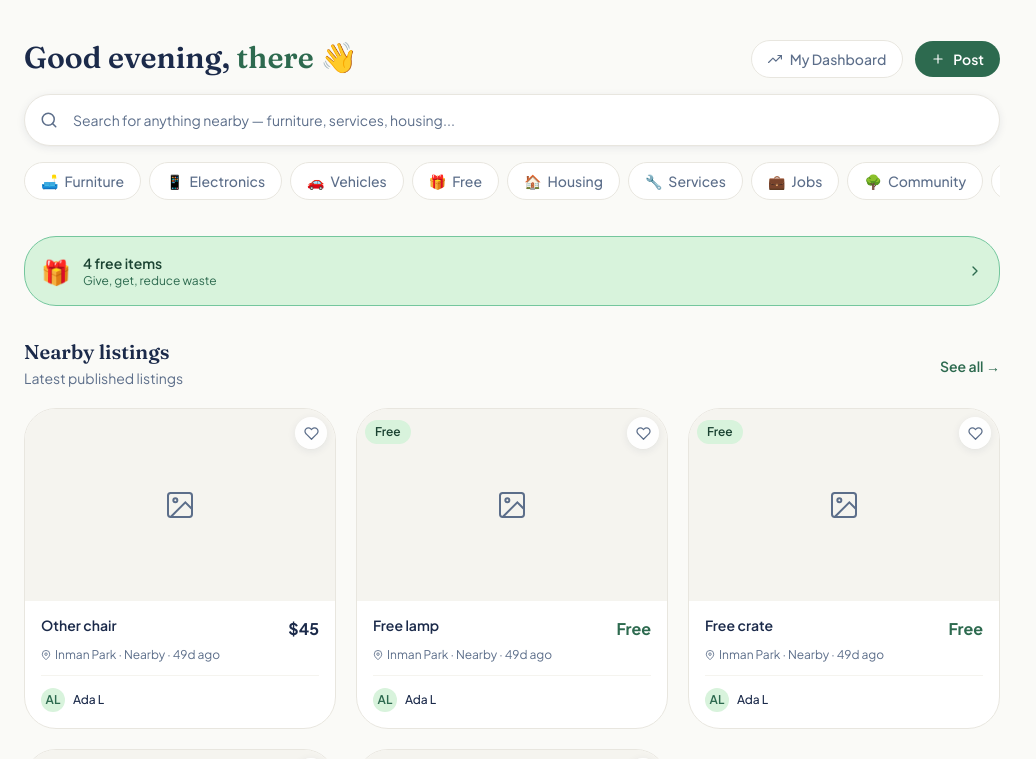
Test case: HomeFeed neighbour group › filters a category chip on the server and counts every free item
Expected: the text "4 free items" is shown, x1=83 y1=254 x2=162 y2=272
Expected: the text "Free lamp" is shown, x1=373 y1=617 x2=439 y2=634
Click the button "🛋️ Furniture" at point(83, 181), box x1=24 y1=162 x2=141 y2=200
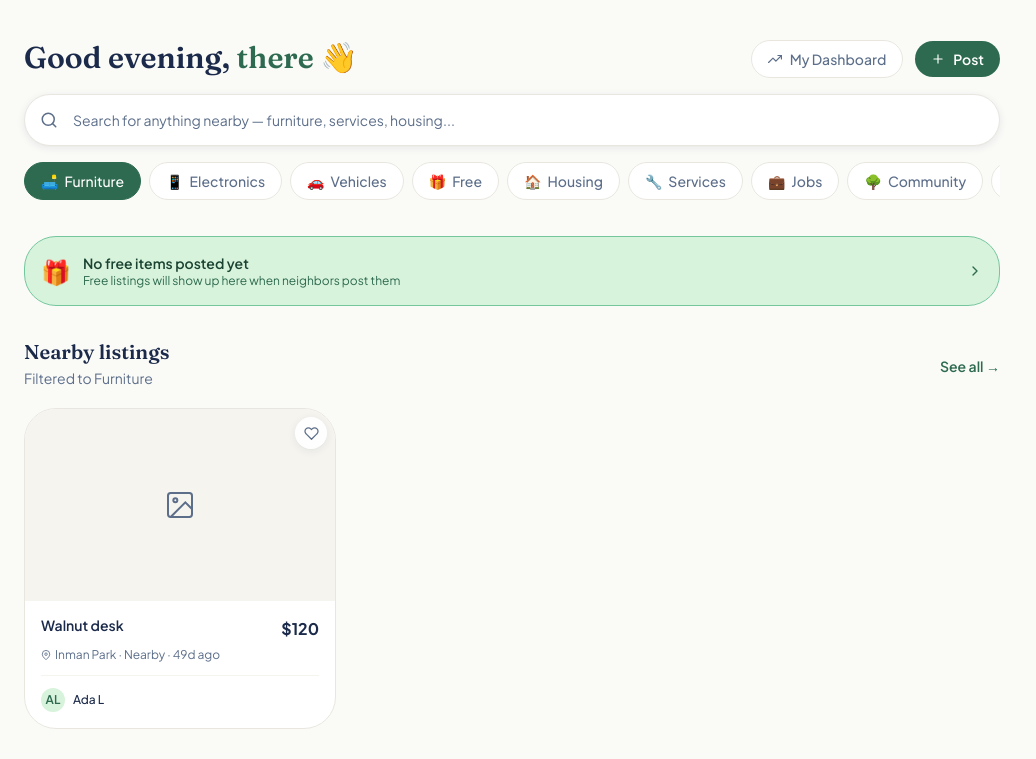
Expected: the text "Walnut desk" is shown, x1=41 y1=617 x2=124 y2=634
Expected: the text "Other chair" is gone
